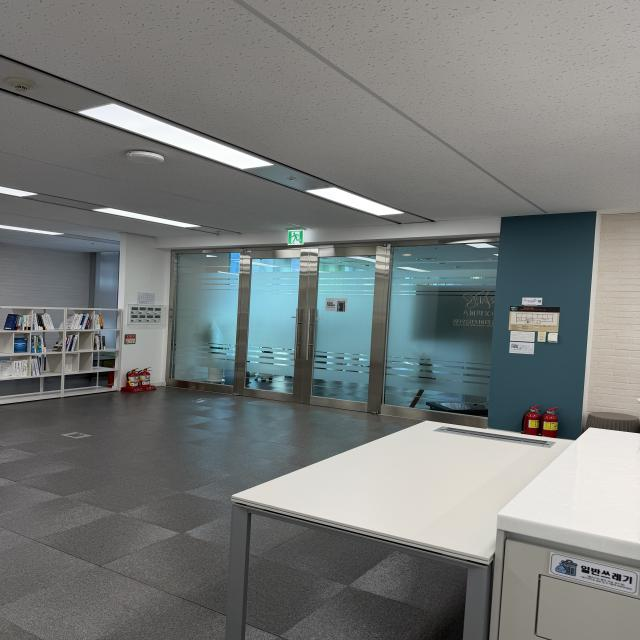front_door: (167, 236, 499, 427)
